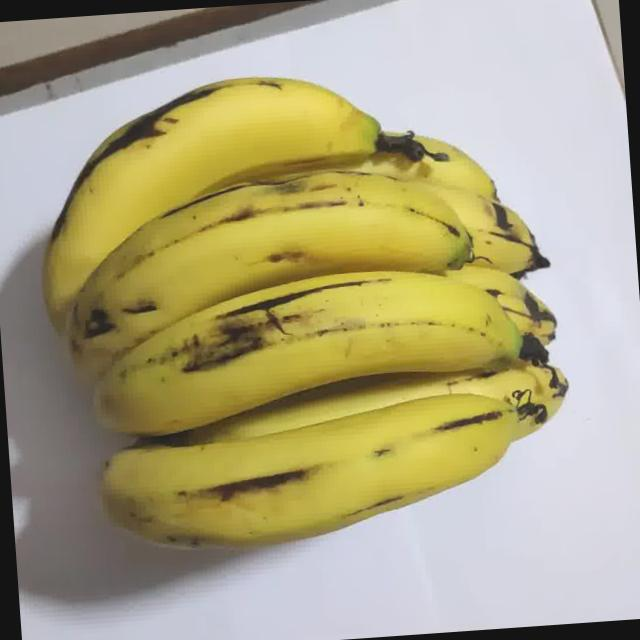banana_pacche: (6, 29, 596, 602)
